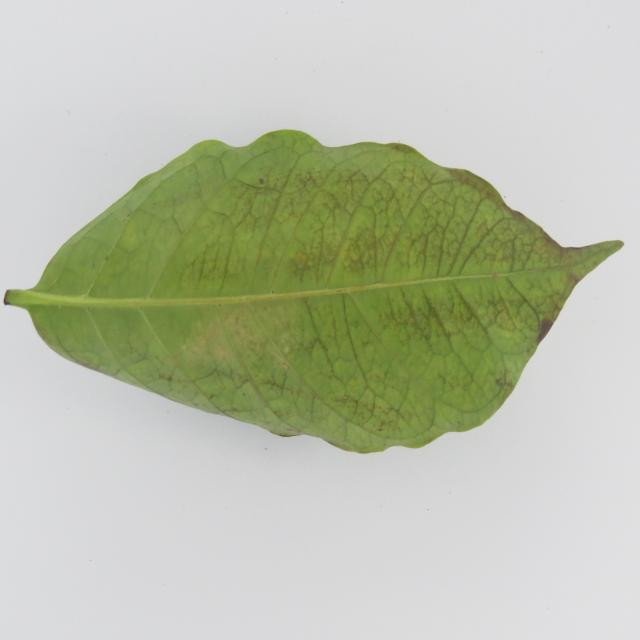DeficienciaNutricional-Calcio: (5, 130, 622, 452)
